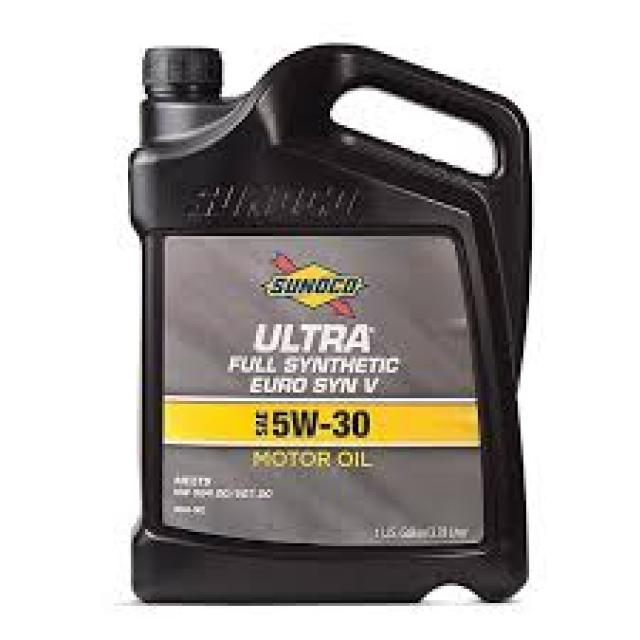motor_oil: (123, 39, 540, 610)
